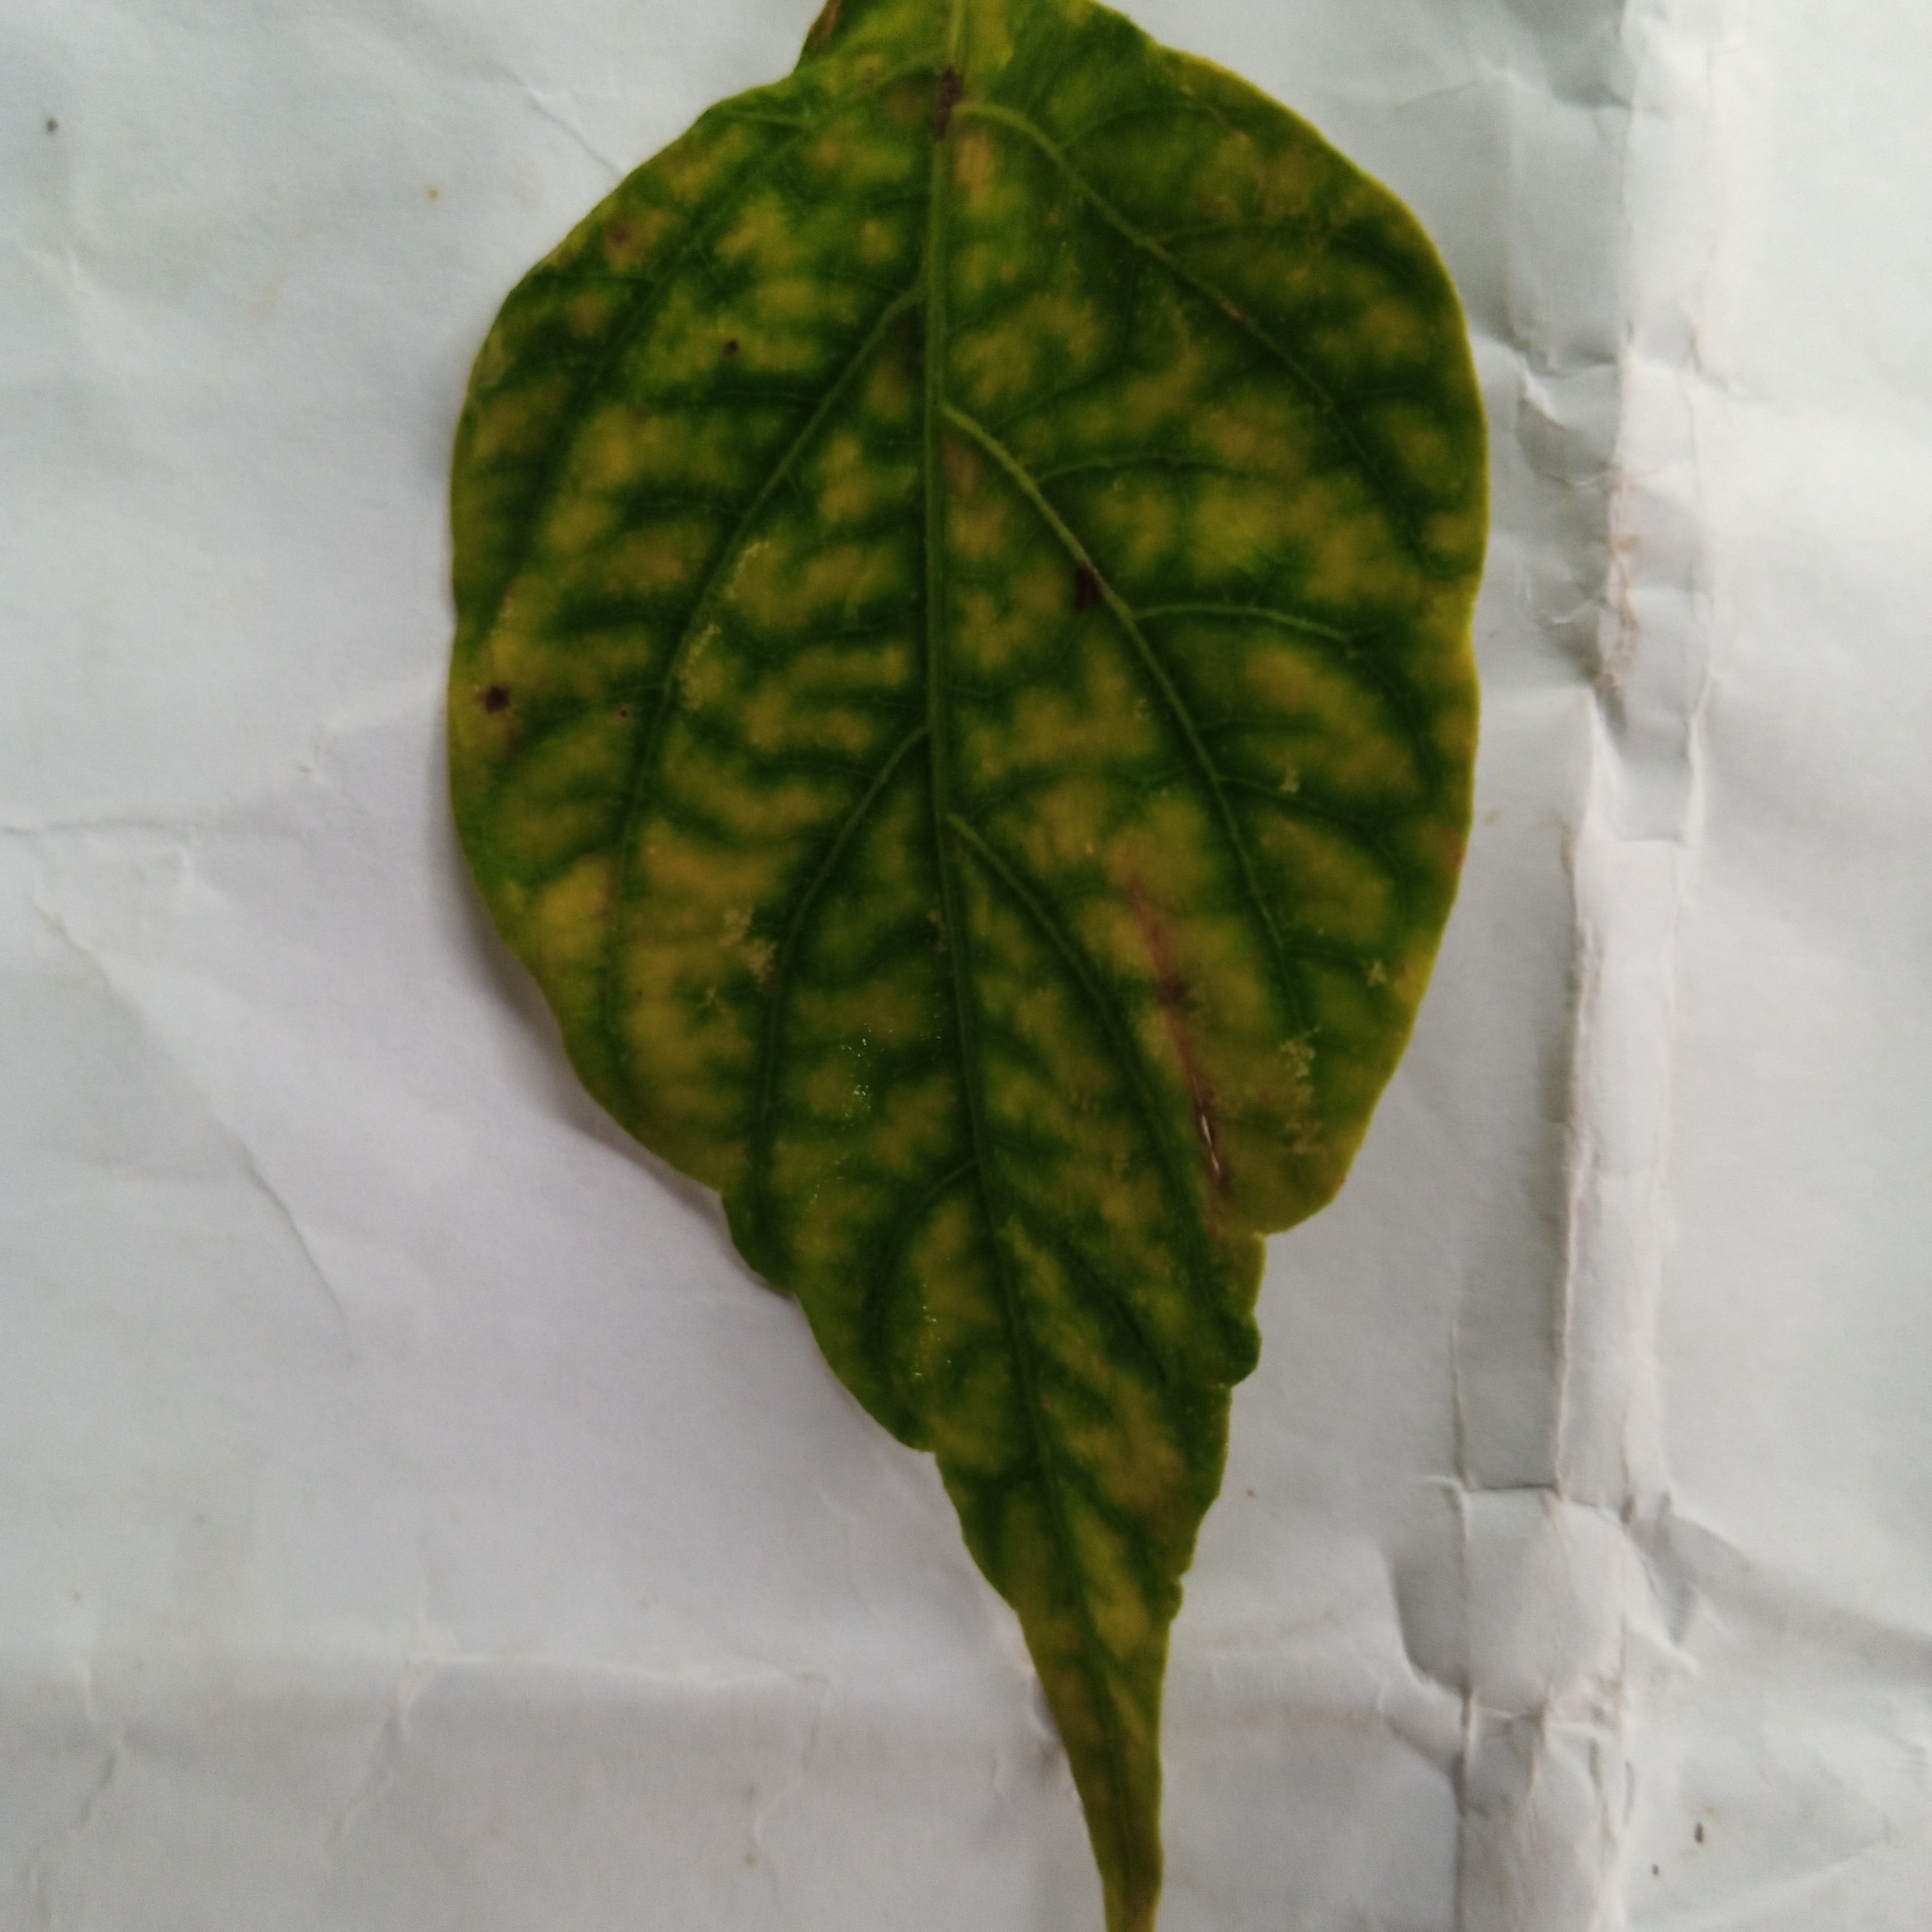Leaf: (340, 12, 1693, 1918)
